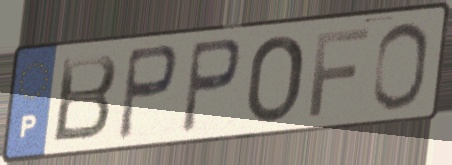B: (49, 51, 121, 147)
F: (306, 24, 373, 120)
O: (244, 32, 307, 126), (369, 19, 431, 113)
P: (114, 41, 181, 142), (178, 34, 244, 136)
